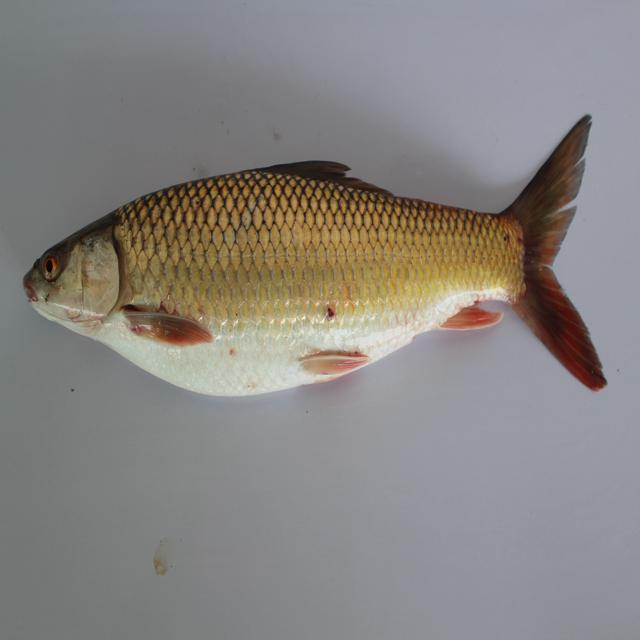Mori: (19, 143, 610, 417)
